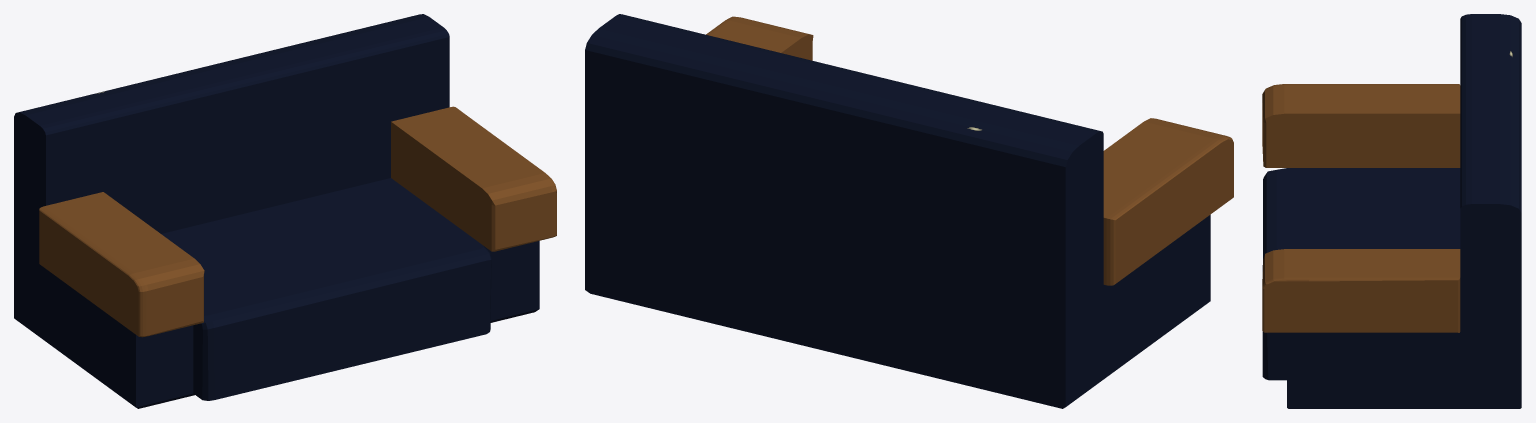
The model's file is BigCouch.fbx.
3 renders of one model, left to right at view 1: azimuth 30°, elevation 25°; view 2: azimuth 150°, elevation 25°; view 3: azimuth 270°, elevation 25°, orthographic. The views are drawn at different scales.
Visible parts, largest first — view 1: Big Couch; view 2: Big Couch; view 3: Big Couch.
Part boxes in pixels (x1,y1,x2,y2): Big Couch: (14, 14, 556, 408); Big Couch: (585, 14, 1233, 408); Big Couch: (1262, 14, 1521, 408).
Size of the model in its own units: 213 by 106 by 119.
